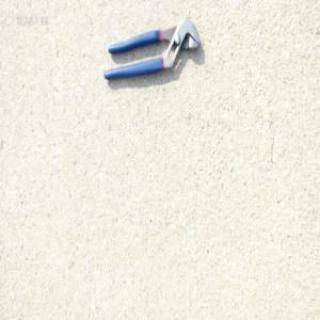Pliertrack_idkeyframe: (101, 16, 200, 81)
